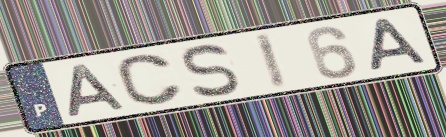6: (304, 24, 359, 81)
A: (369, 15, 433, 74), (66, 62, 131, 119)
C: (113, 52, 186, 108)
I: (250, 30, 291, 92)
S: (180, 42, 243, 99)
